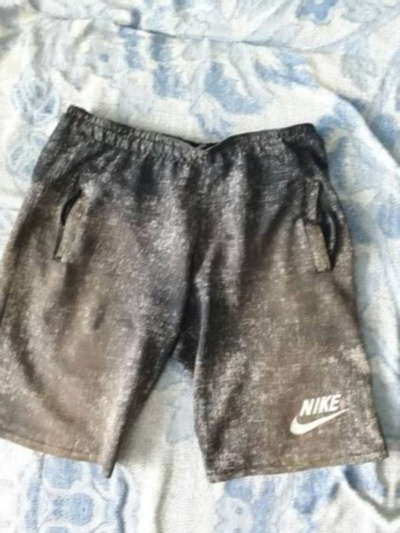Pants: (0, 75, 400, 499), (0, 533, 369, 533)
